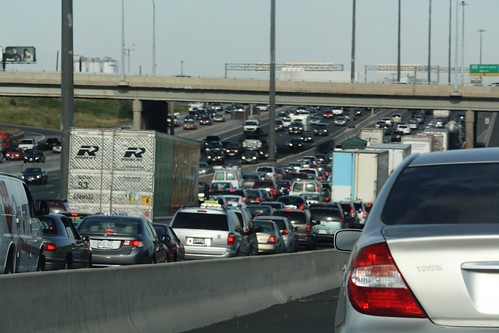bridge: (4, 62, 491, 146)
car: (337, 151, 499, 333), (81, 216, 177, 267), (170, 204, 250, 259), (38, 214, 103, 276)
sky: (1, 1, 457, 78)
truck: (67, 127, 210, 225), (328, 146, 386, 210)
